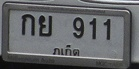txt01: (20, 13, 36, 37)
txt29: (37, 14, 54, 37)
